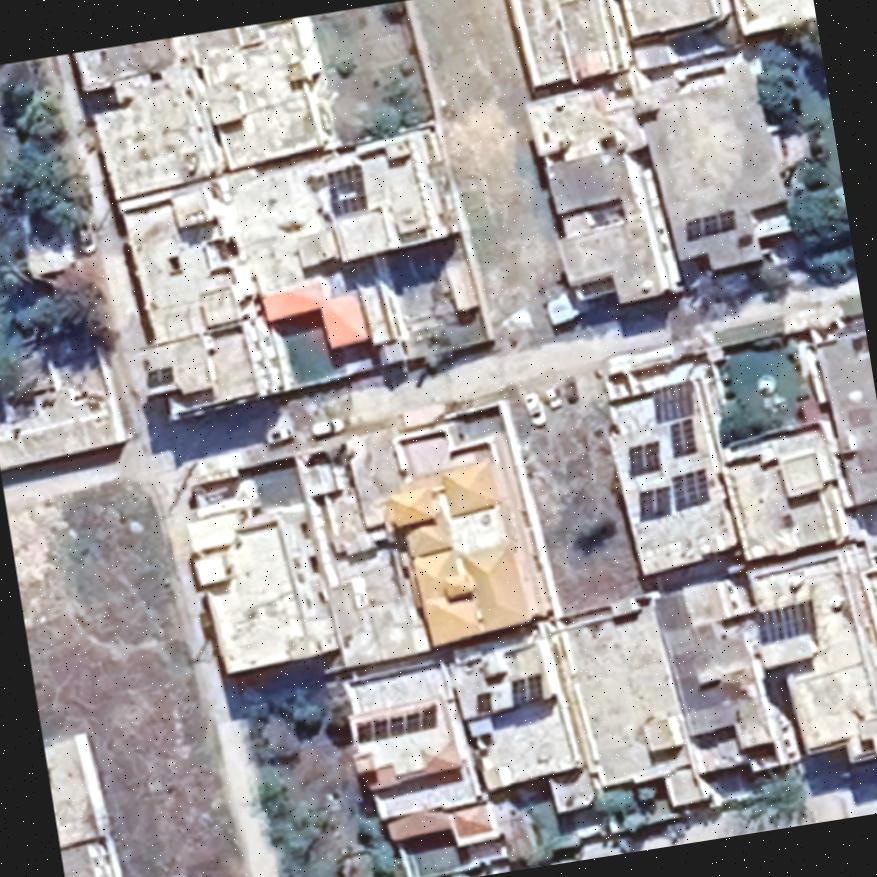Solarpanel: (644, 376, 708, 468), (628, 463, 718, 527), (346, 700, 446, 750), (749, 595, 823, 651), (314, 158, 374, 223), (675, 204, 743, 247), (646, 378, 701, 428), (620, 435, 668, 483), (502, 668, 551, 713), (663, 414, 703, 464)
